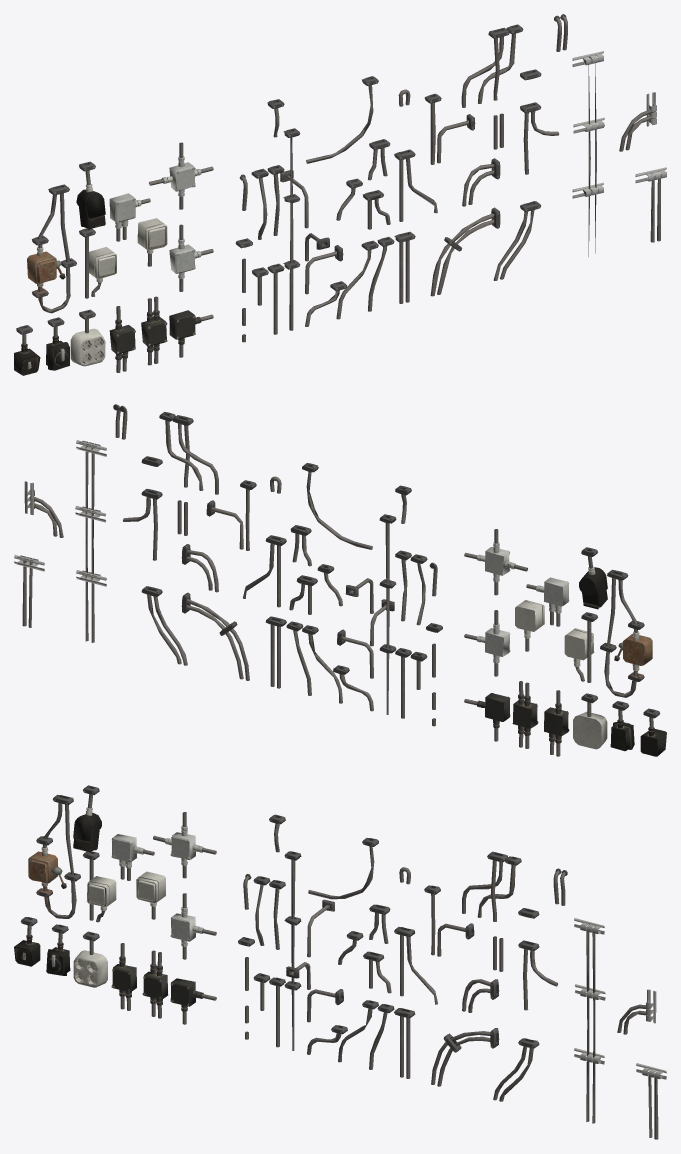
The model's file is ph_cables.glb.
3 renders of one model, top to bottom at view 1: azimuth 30°, elevation 25°; view 2: azimuth 150°, elevation 25°; view 3: azimuth 330°, elevation 25°, orthographic.
Visible parts, largest first — view 1: cable_switch, cable_double_alt_long, cable_3way_junction, cable_plug_4x, cable_lightswitch_double, cable_plug_covered_2, cable_double_turn_long, cable_box_4way, cable_box_double, cable_straight_long, cable_box_double_to_single, cable_box_3way (+14 smaller); view 2: cable_switch, cable_double_alt_long, cable_3way_junction, cable_plug_4x, cable_lightswitch_double, cable_plug_covered_2, cable_double_turn_long, cable_box_4way, cable_box_double, cable_straight_long, cable_box_3way, cable_box_double_to_single (+14 smaller); view 3: cable_switch, cable_double_alt_long, cable_plug_4x, cable_3way_junction, cable_lightswitch_double, cable_plug_covered_2, cable_box_4way, cable_box_double, cable_double_turn_long, cable_straight_long, cable_box_3way, cable_box_double_to_single (+14 smaller).
Boxes of the visible parts, x1,y1,x2,y2 form: cable_switch: (27,184,76,313); cable_double_alt_long: (572,51,604,256); cable_3way_junction: (461,24,523,107); cable_plug_4x: (70,309,105,366); cable_lightswitch_double: (79,228,116,298); cable_plug_covered_2: (76,161,105,228); cable_double_turn_long: (430,207,500,296); cable_box_4way: (149,142,213,209); cable_box_double: (141,296,167,365); cable_straight_long: (283,128,300,330); cable_box_double_to_single: (109,306,135,372); cable_box_3way: (169,224,213,291); cable_switch: (600,569,652,697); cable_double_alt_long: (75,440,106,642); cable_3way_junction: (159,412,218,494); cable_plug_4x: (573,693,607,749); cable_lightswitch_double: (564,612,597,682); cable_plug_covered_2: (579,547,607,609); cable_double_turn_long: (181,592,249,680); cable_box_4way: (464,529,527,595); cable_box_double: (512,681,538,748); cable_straight_long: (379,514,396,714); cable_box_3way: (464,610,510,676); cable_box_double_to_single: (544,690,569,756); cable_switch: (28,794,80,918); cable_double_alt_long: (574,918,605,1123); cable_plug_4x: (73,931,107,987); cable_3way_junction: (462,851,521,921); cable_lightswitch_double: (83,851,116,922); cable_plug_covered_2: (73,785,101,851); cable_box_4way: (153,812,216,878); cable_box_double: (142,950,168,1018); cable_double_turn_long: (431,1028,499,1086); cable_straight_long: (284,851,301,1050); cable_box_3way: (170,893,216,959); cable_box_double_to_single: (111,943,136,1010).
Bounding box in the file's own units: 2.08 × 0.7573 × 0.2145.
2 materials, 2 textured.
